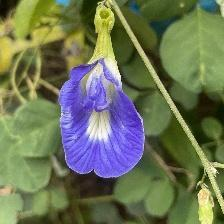shankupushpam: (59, 1, 146, 179)
